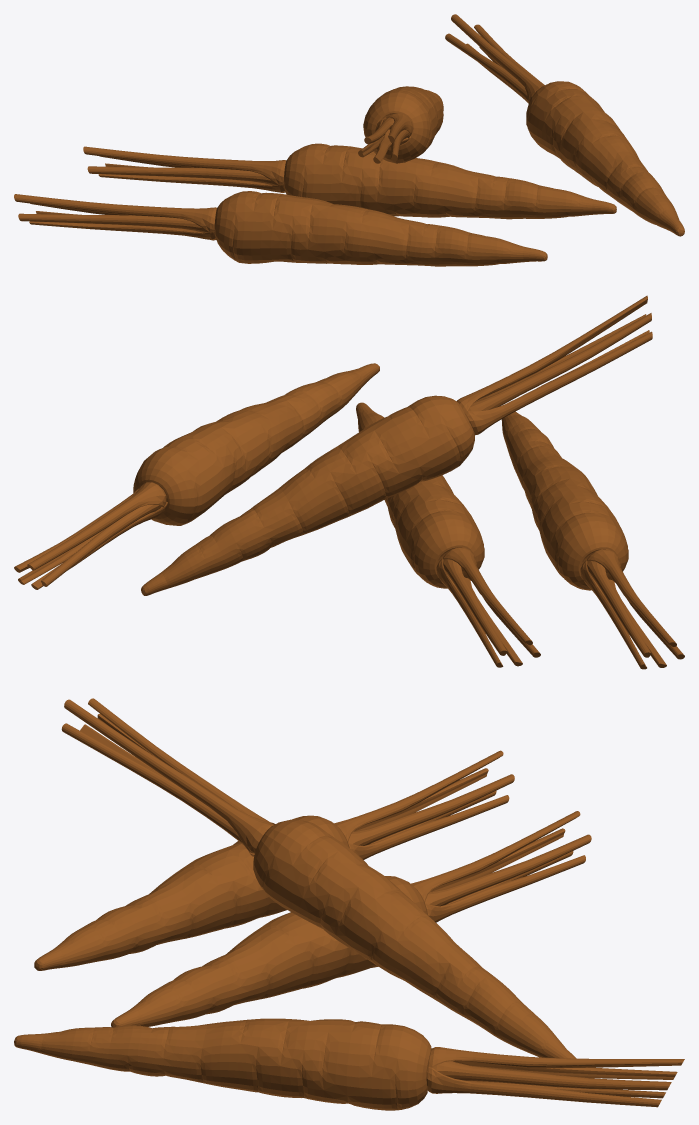
Rendered from zanahoria.obj.
3 views of the same model, one above another, from view 1: azimuth 30°, elevation 25°; view 2: azimuth 150°, elevation 25°; view 3: azimuth 270°, elevation 25° (orthographic). The views are drawn at different scales.
Visible parts, largest first — view 1: Carrot_03, Carrot_03.001, Carrot_03.002, Carrot_03.003; view 2: Carrot_03.003, Carrot_03.002, Carrot_03, Carrot_03.001; view 3: Carrot_03.002, Carrot_03.003, Carrot_03, Carrot_03.001.
Part boxes in pixels (box(x1,y1,x2,y2)): Carrot_03: box(14, 191, 547, 266); Carrot_03.001: box(83, 143, 616, 219); Carrot_03.002: box(445, 14, 684, 236); Carrot_03.003: box(358, 86, 443, 163); Carrot_03.003: box(141, 295, 652, 595); Carrot_03.002: box(14, 363, 379, 589); Carrot_03: box(501, 411, 684, 669); Carrot_03.001: box(356, 402, 540, 667); Carrot_03.002: box(14, 1018, 684, 1110); Carrot_03.003: box(61, 698, 576, 1058); Carrot_03: box(34, 750, 514, 970); Carrot_03.001: box(111, 811, 591, 1027).
Size of the model in its own units: 1.75 by 0.574 by 1.54.
